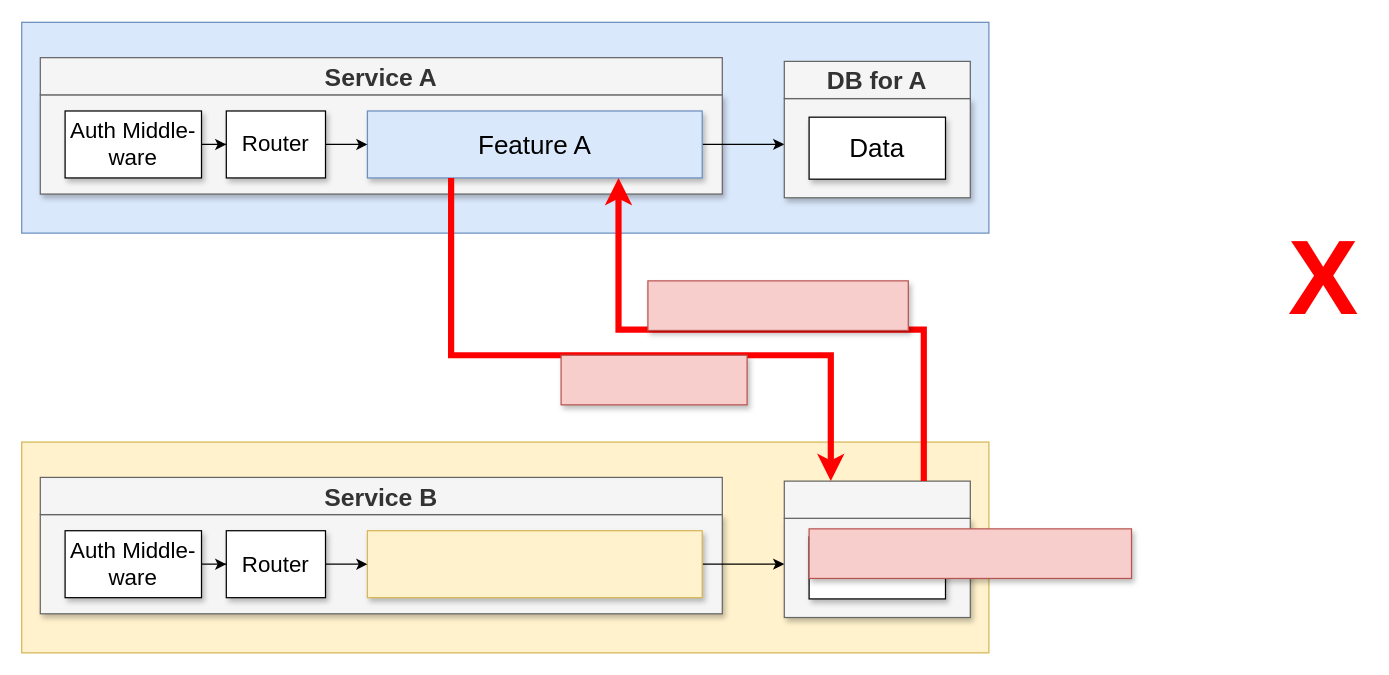
Some shapes in this 1389 by 675 pixel diagram are drawn without their labels. The shapes that lost their labels are listed below. From the top down, each one's centre as x and y in pixels, then its label:
At (x=779, y=307): "{ name: 'Jill' }".
At (x=655, y=381): "Get User".
At (x=876, y=499): "DB for B".
At (x=535, y=565): "Feature B".
At (x=971, y=555): "{ firstName: 'Jill' }".
